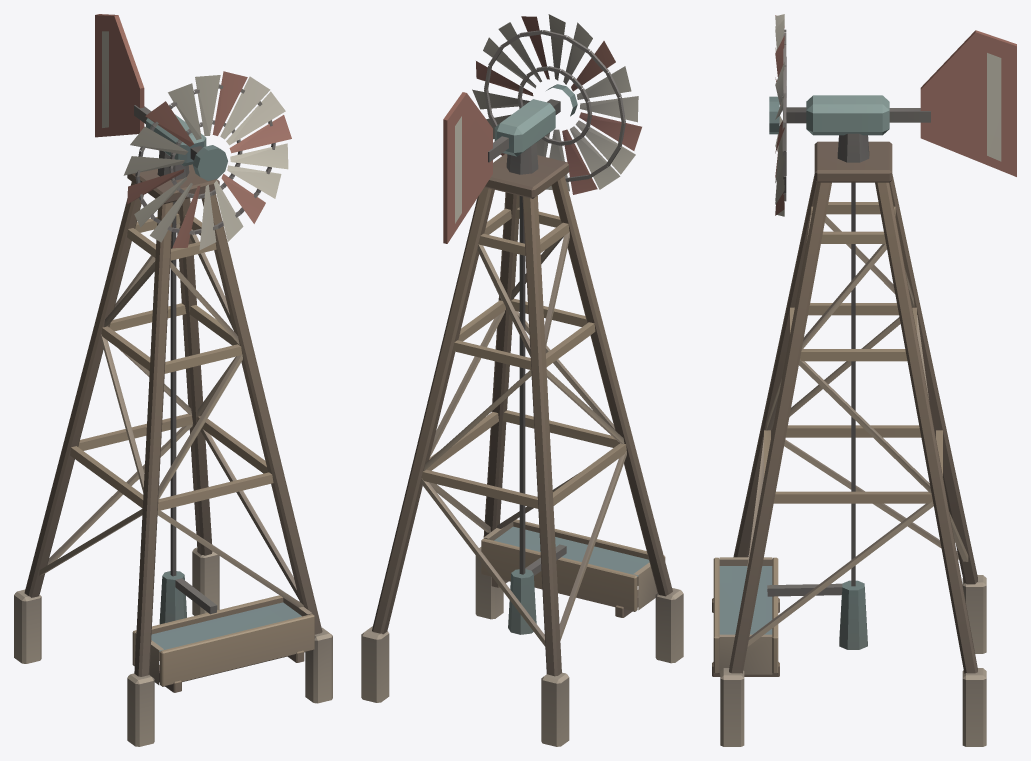
File: windmill.glb
3 renders of one model, left to right at view 1: azimuth 30°, elevation 25°; view 2: azimuth 150°, elevation 25°; view 3: azimuth 270°, elevation 25°, orthographic. The views are drawn at different scales.
Bounding box in the file's own units: 2.84 × 8.61 × 3.54.
